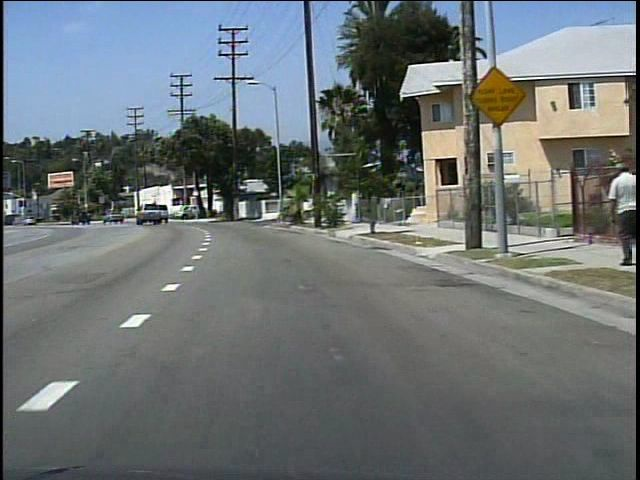person: (598, 159, 635, 269)
